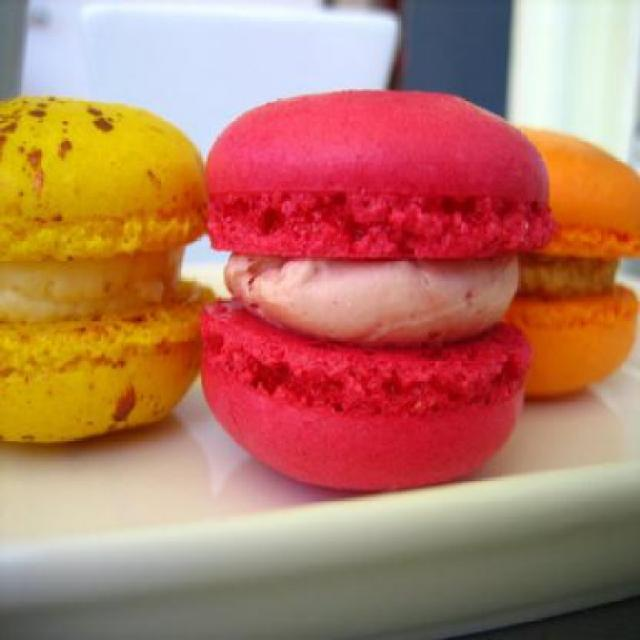Macaron: (2, 78, 640, 508)
